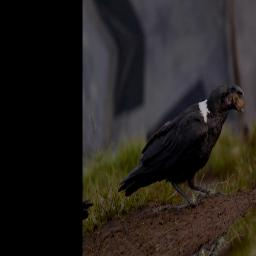Crow: (107, 70, 256, 247)
